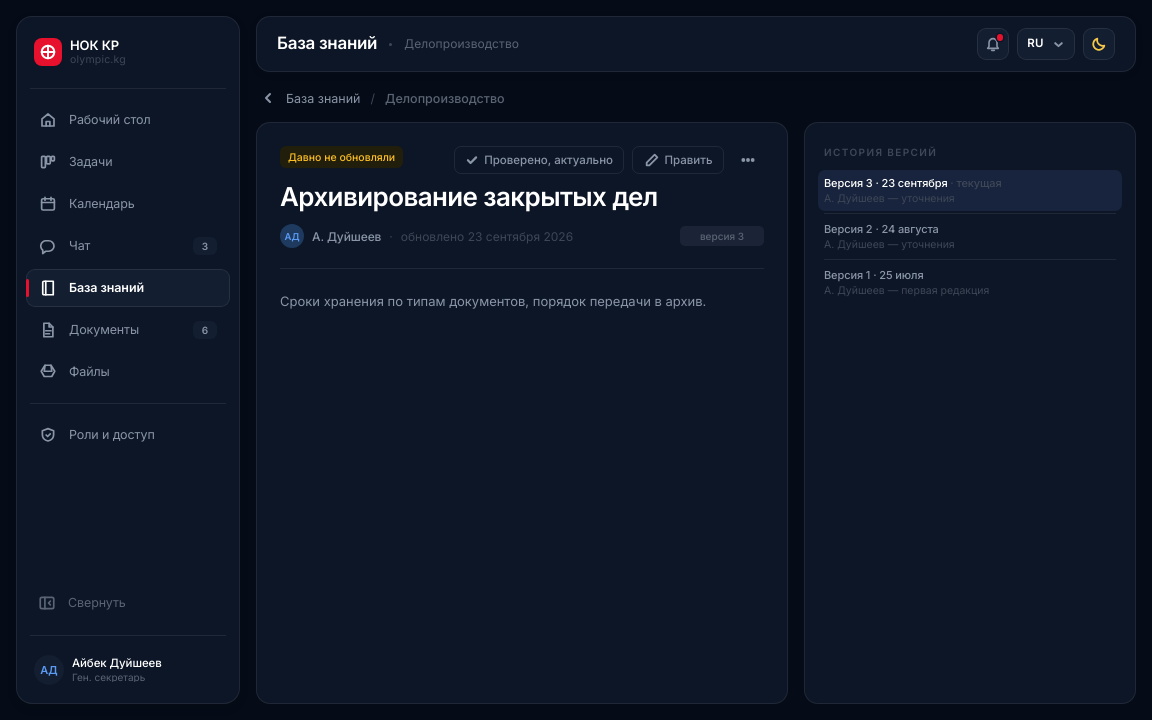
база знаний (экраны) › «Проверено, актуально» на устаревшей статье
Step 1. Click the button "Проверено, актуально" → (539,160), box [454,146,624,174]
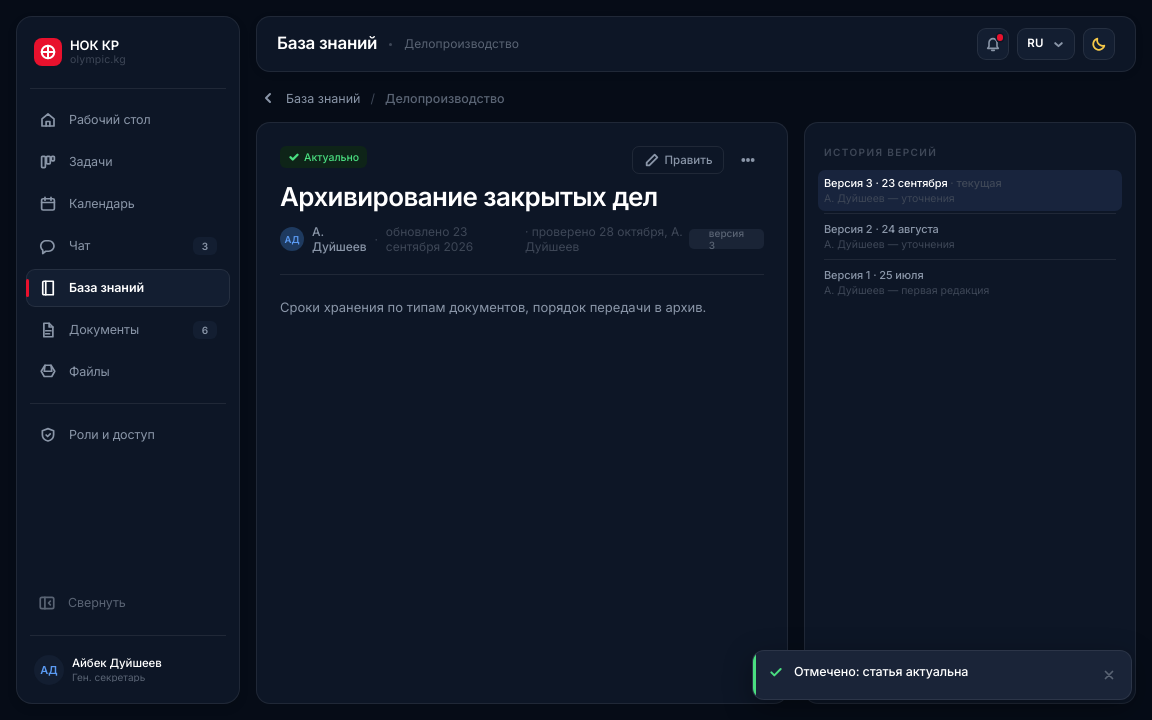
Check: the text "Актуально" is shown, box [280,146,367,168]
Check: the text "Давно не обновляли" is gone
